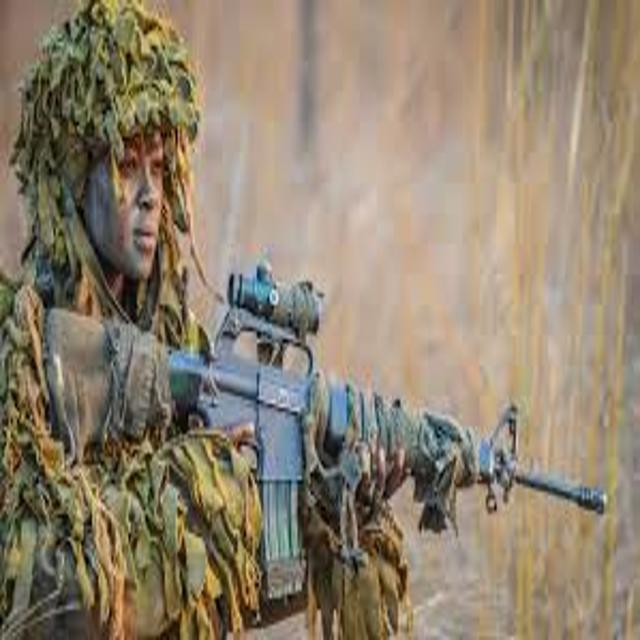gun: (17, 234, 630, 627)
poacher: (1, 1, 449, 638)
